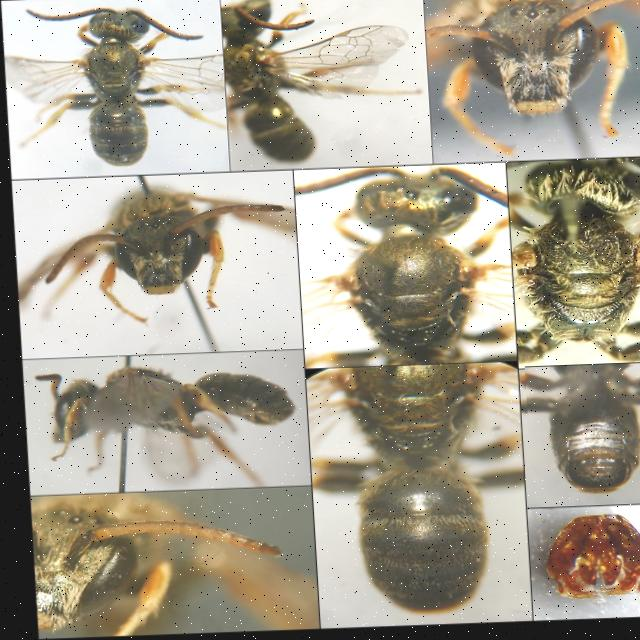Seladonia: (329, 355, 507, 624), (17, 175, 290, 331), (23, 487, 290, 634), (297, 167, 491, 364), (25, 353, 301, 488), (422, 0, 640, 158), (22, 0, 209, 167), (217, 0, 401, 169), (514, 162, 640, 367), (520, 367, 640, 497)
